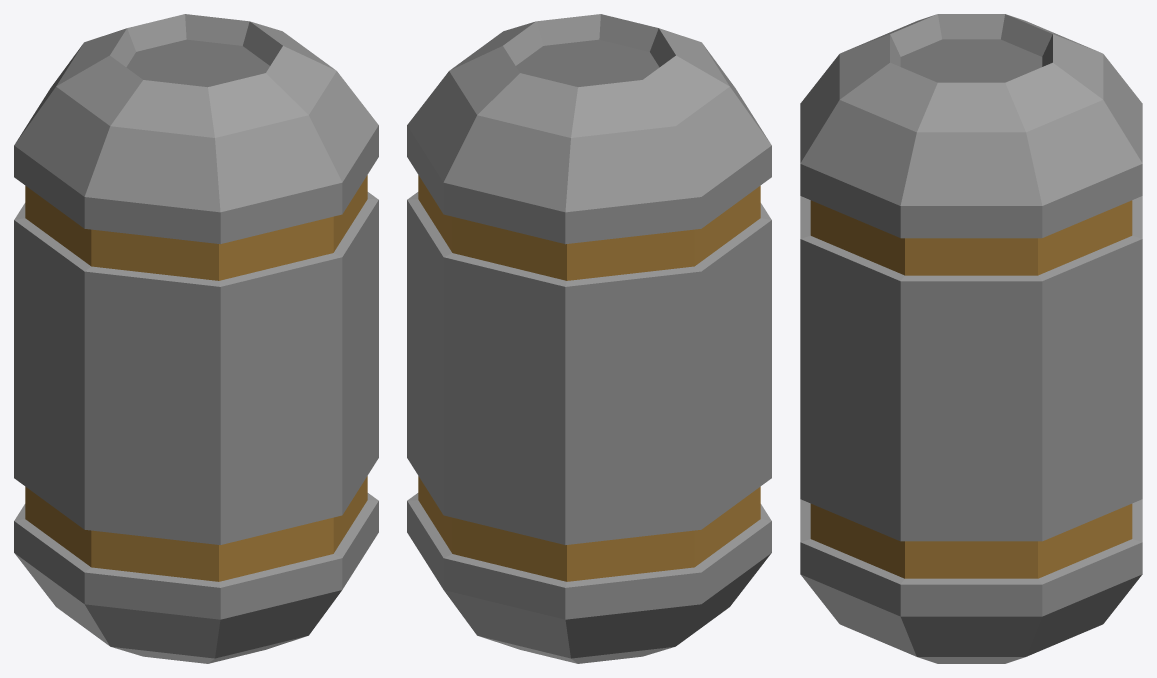
Rendered from Props_Vessel_Short.glb.
3 renders of one model, left to right at view 1: azimuth 30°, elevation 25°; view 2: azimuth 150°, elevation 25°; view 3: azimuth 270°, elevation 25°, orthographic.
Parts seen in each view (by area): view 1: Props_Vessel_Short; view 2: Props_Vessel_Short; view 3: Props_Vessel_Short.
Boxes of the visible parts, x1,y1,x2,y2 form: Props_Vessel_Short: (14, 14, 378, 663); Props_Vessel_Short: (407, 14, 771, 663); Props_Vessel_Short: (800, 14, 1142, 663).
Size of the model in its own units: 0.2873 by 0.538 by 0.2873.
